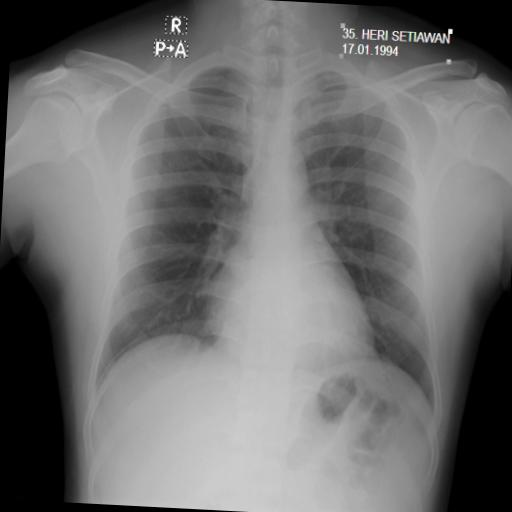normal: (82, 27, 468, 451)
